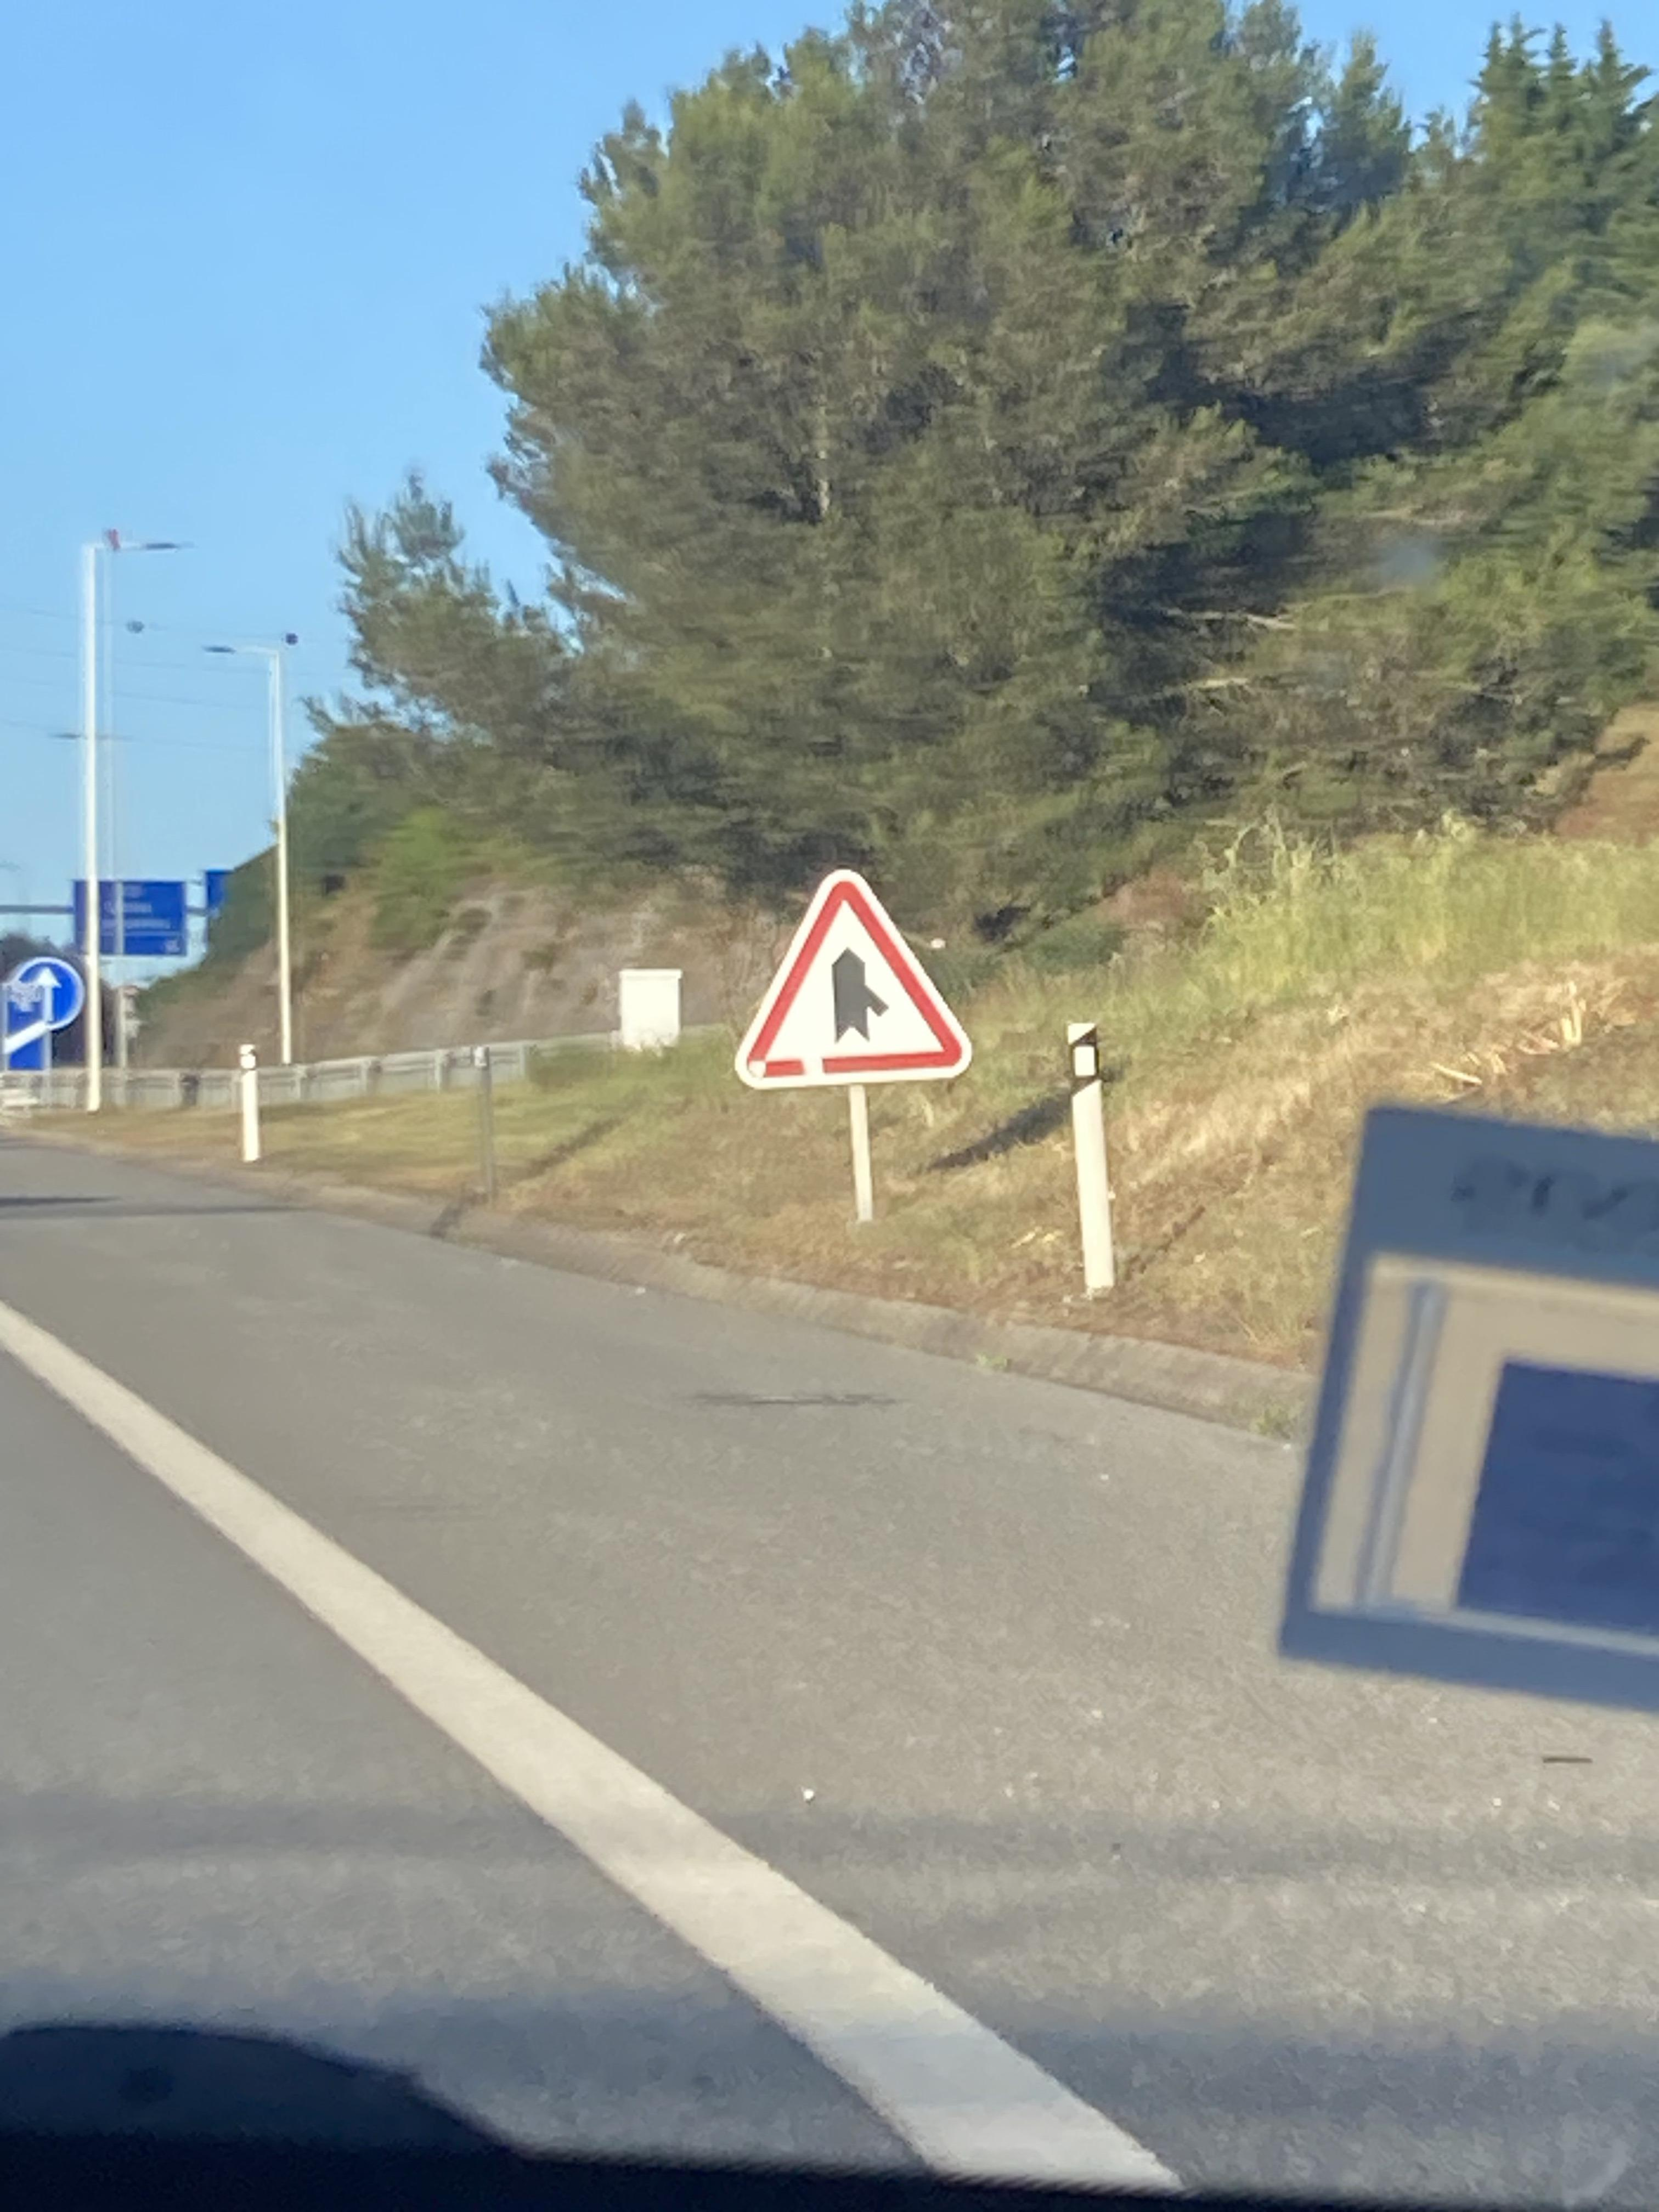entroncamento com via sem prioridade: (730, 894, 983, 1097)
sentido obrigatorio: (28, 960, 82, 1031)
